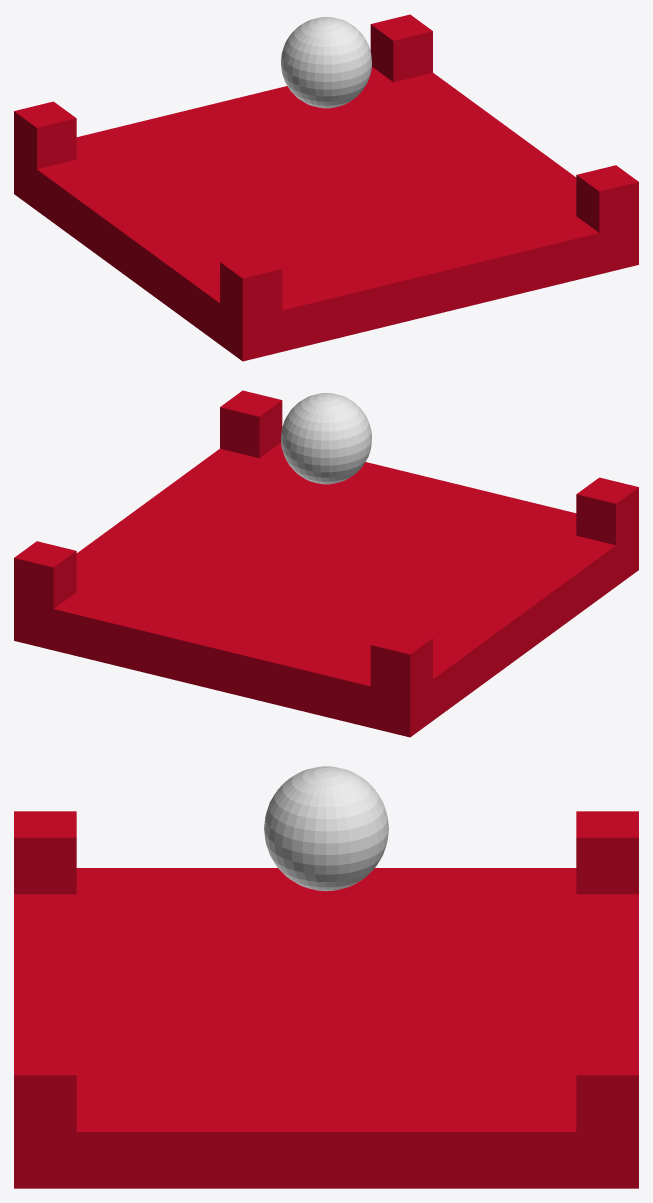
3 views of the same model, one above another, from view 1: azimuth 30°, elevation 25°; view 2: azimuth 150°, elevation 25°; view 3: azimuth 270°, elevation 25° (orthographic). The views are drawn at different scales.
Visible parts, largest first — view 1: CrossComponent, Ball; view 2: CrossComponent, Ball; view 3: CrossComponent, Ball.
Boxes of the visible parts, <box> form: CrossComponent: <box>14,14,638,361</box>; Ball: <box>281,17,371,108</box>; CrossComponent: <box>14,390,638,737</box>; Ball: <box>281,393,371,484</box>; CrossComponent: <box>14,811,638,1188</box>; Ball: <box>264,766,388,891</box>.
Size of what is drawn, in the model's own units: 10 by 5.02 by 10.
